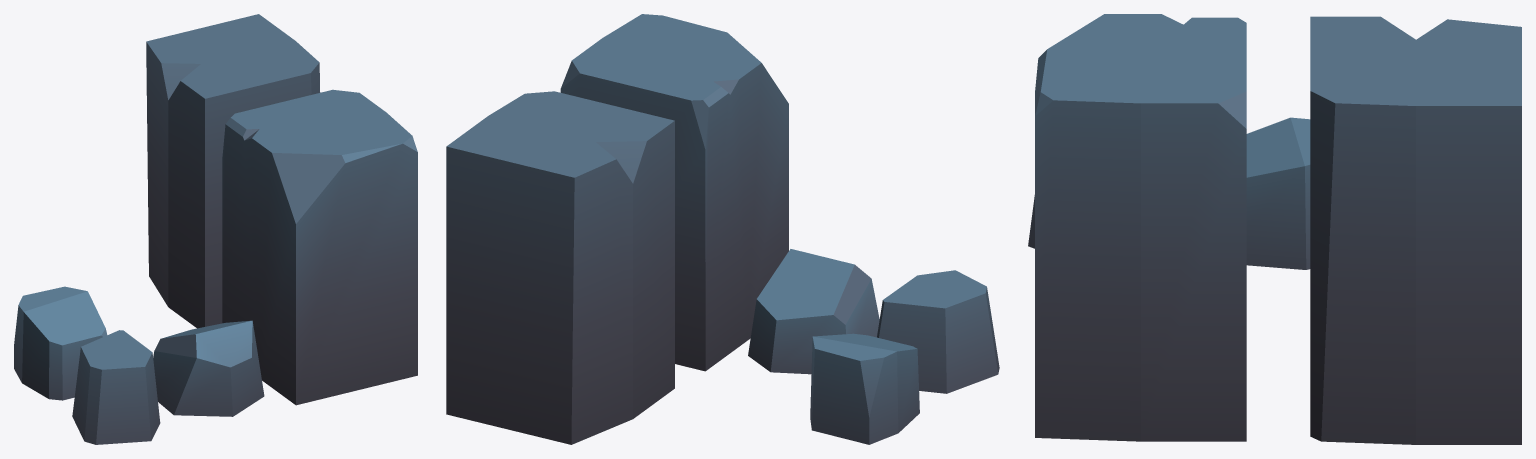
File: Stage4_Object.fbx
3 views of the same model, side by side, from view 1: azimuth 30°, elevation 25°; view 2: azimuth 150°, elevation 25°; view 3: azimuth 270°, elevation 25° (orthographic). The views are drawn at different scales.
Visible parts, largest first — view 1: Rock_S4_004, Rock_S4_003, Rock_S4_007, Rock_S4_006, Rock_S4_005; view 2: Rock_S4_003, Rock_S4_004, Rock_S4_007, Rock_S4_006, Rock_S4_005; view 3: Rock_S4_003, Rock_S4_004, Rock_S4_005.
Boxes of the visible parts, box(x1,y1,x2,y2) form: Rock_S4_004: box(222, 89, 417, 405); Rock_S4_003: box(146, 14, 320, 328); Rock_S4_007: box(153, 320, 264, 416); Rock_S4_006: box(72, 330, 160, 444); Rock_S4_005: box(14, 286, 107, 400); Rock_S4_003: box(446, 91, 674, 444); Rock_S4_004: box(560, 14, 788, 371); Rock_S4_007: box(748, 249, 879, 374); Rock_S4_006: box(877, 270, 999, 393); Rock_S4_005: box(810, 333, 919, 444); Rock_S4_003: box(1310, 16, 1521, 444); Rock_S4_004: box(1035, 14, 1246, 441); Rock_S4_005: box(1246, 117, 1310, 269).
Bounding box in the file's own units: 17.46 × 11.91 × 15.73.
